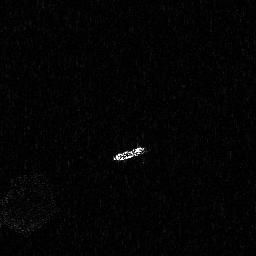ship: (112, 146, 148, 161)
